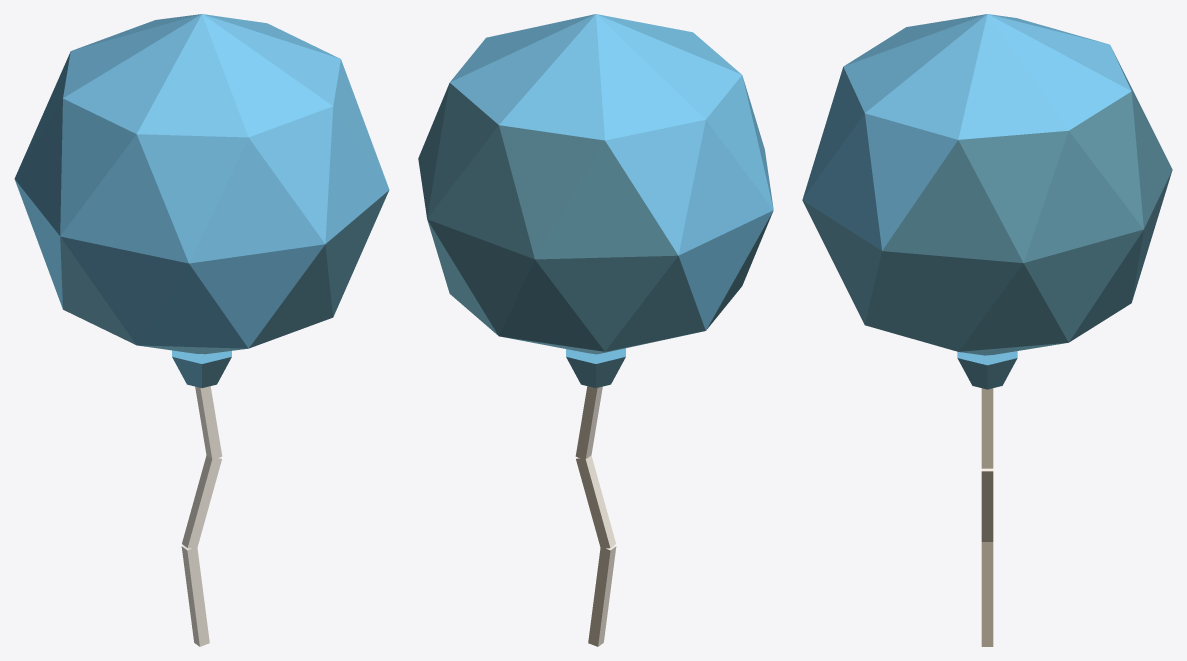
File: balloon_round.glb
The picture shows the model from 3 angles, left to right: view 1: azimuth 30°, elevation 25°; view 2: azimuth 150°, elevation 25°; view 3: azimuth 270°, elevation 25°; orthographic projection.
Parts seen in each view (by area): view 1: skin, string, knot; view 2: skin, string, knot; view 3: skin, string, knot.
Boxes of the visible parts, bbox=[...] form: skin: bbox=[14, 14, 389, 354]; string: bbox=[181, 386, 222, 646]; knot: bbox=[172, 350, 231, 387]; skin: bbox=[418, 14, 773, 354]; string: bbox=[575, 386, 616, 646]; knot: bbox=[566, 348, 625, 387]; skin: bbox=[802, 14, 1172, 355]; string: bbox=[981, 388, 993, 646]; knot: bbox=[957, 351, 1017, 389].
Size of the model in its own units: 0.0638 by 0.1201 by 0.0638.
